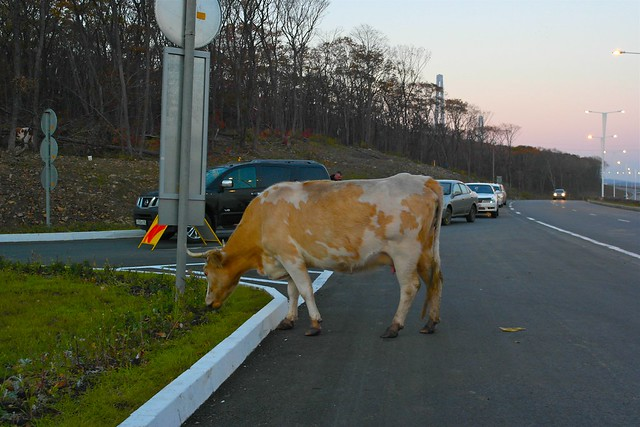inek: (189, 167, 485, 360)
otomobil: (120, 153, 320, 221)
